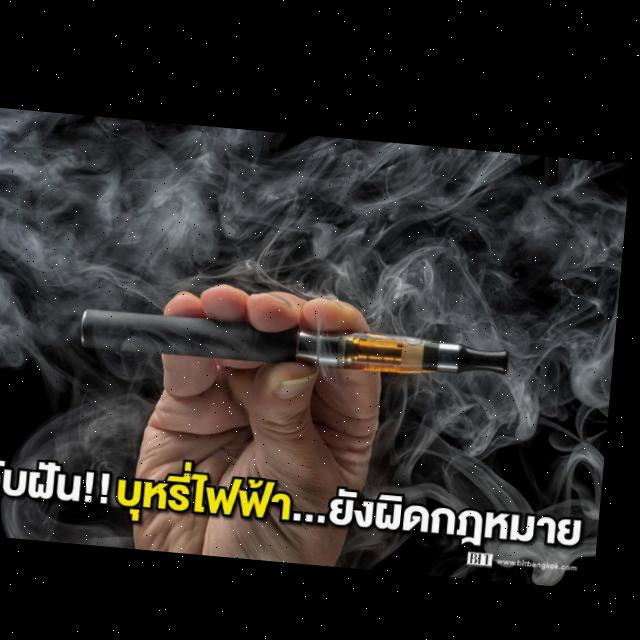vape: (84, 305, 517, 376)
